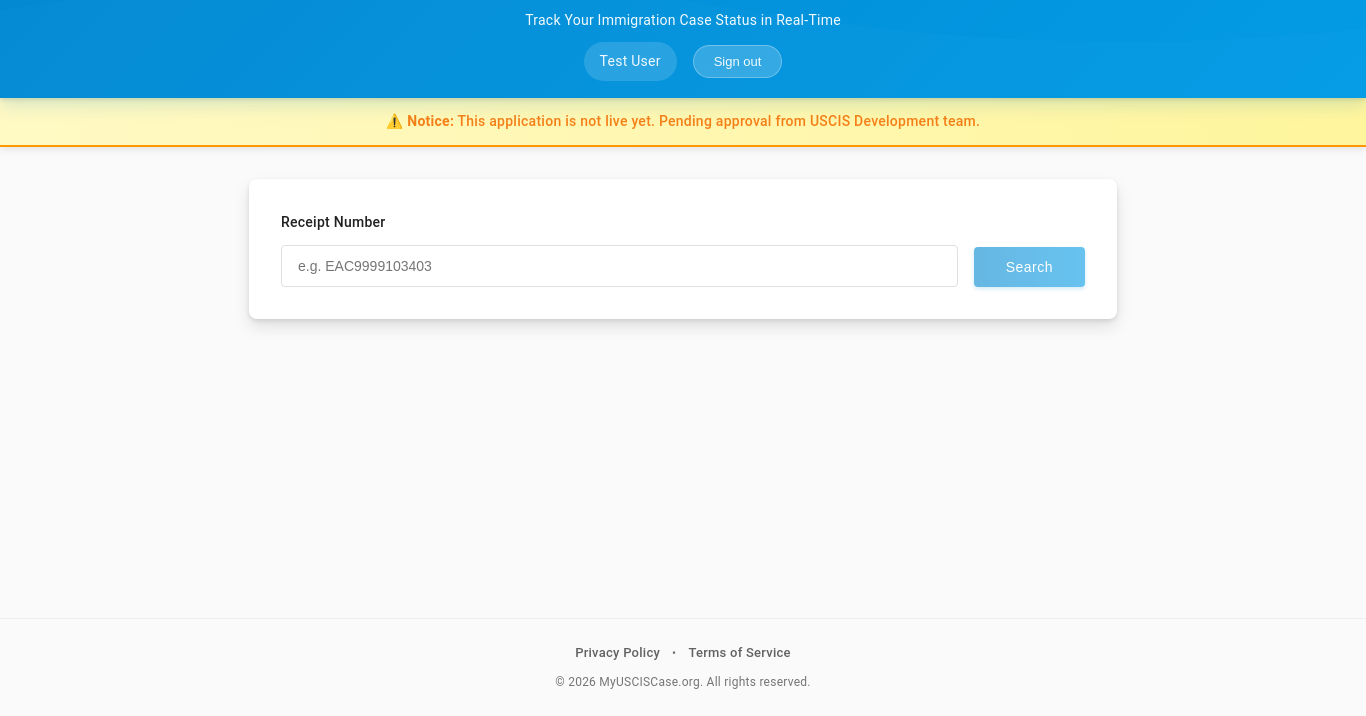
Test case: App › displays case card and history on success
The image size is (1366, 716).
Type "EAC9999103403" into the field labelled "Receipt Number".
click(619, 266); type("EAC9999103403")  # box [281, 245, 958, 287]
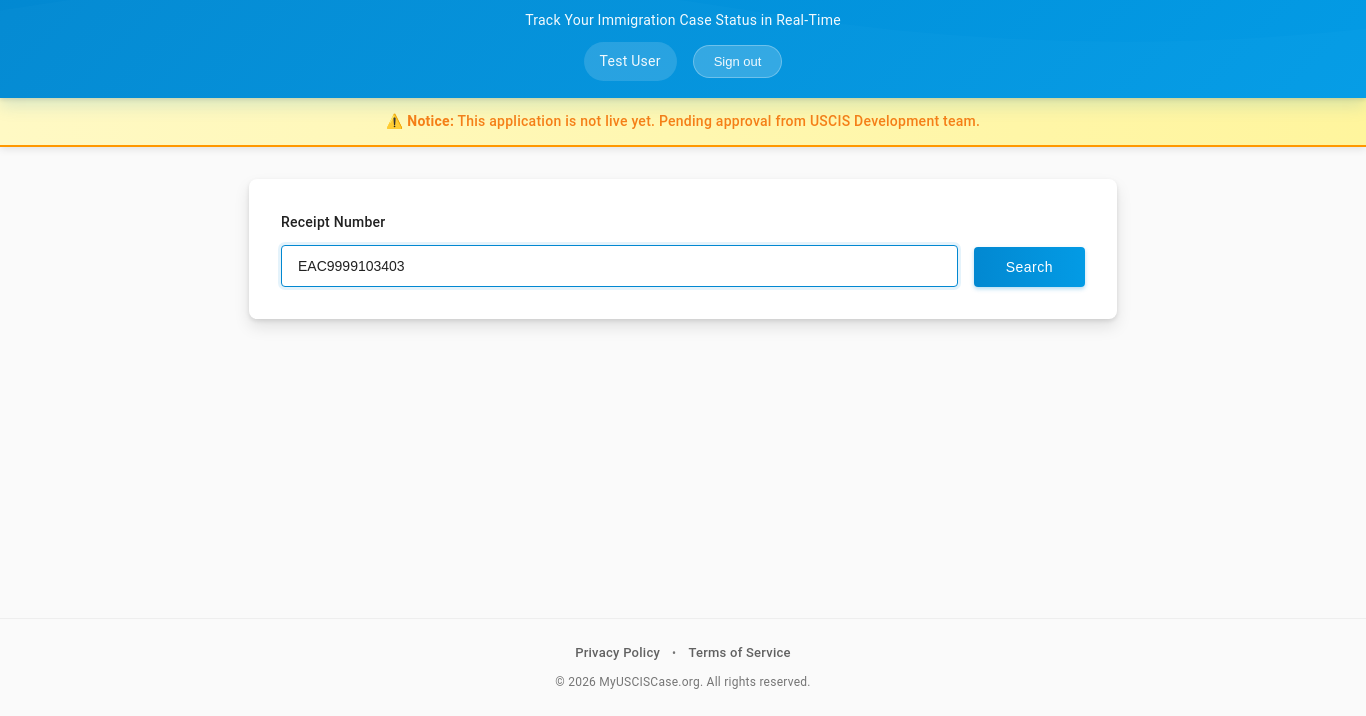
Click the button "Search".
click(1029, 267)  # box [974, 247, 1085, 287]
(page scrolled)
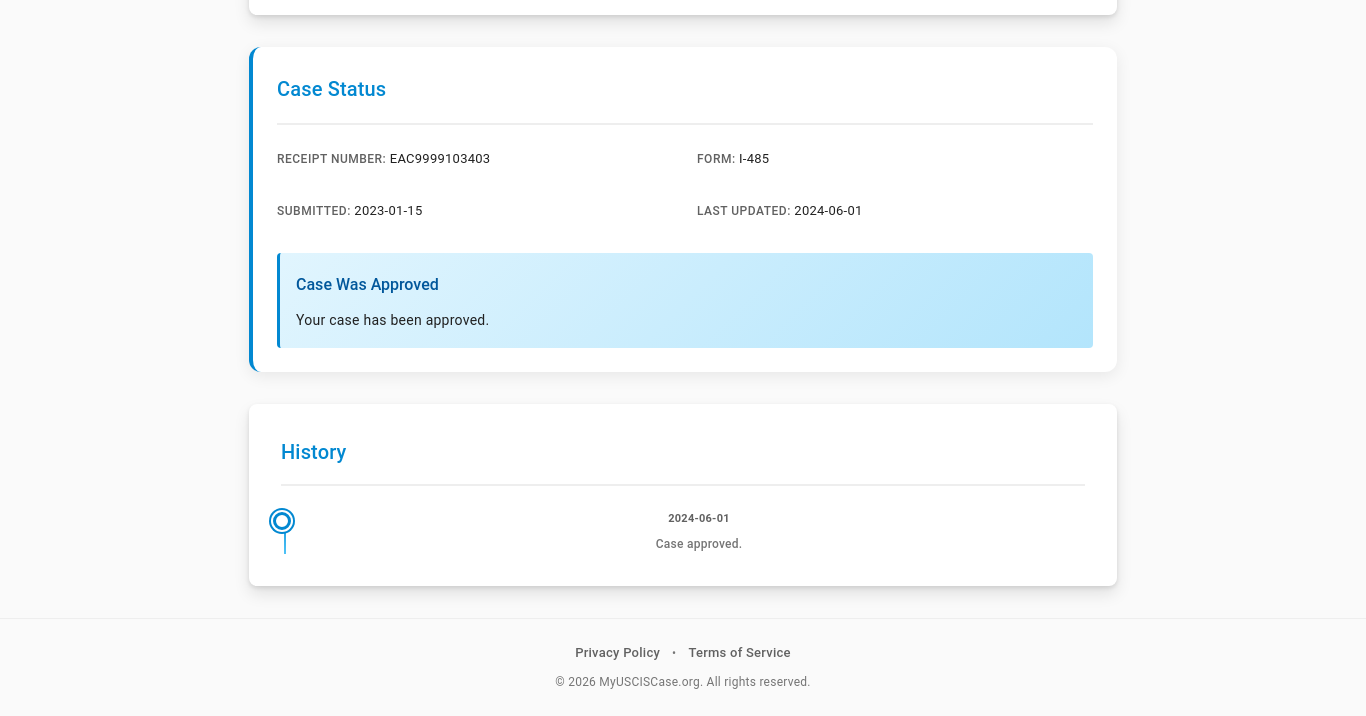
expect the heading "Case Was Approved" is shown: met, box [296, 275, 439, 294]
expect the text "Case approved." is shown: met, box [656, 535, 742, 554]
